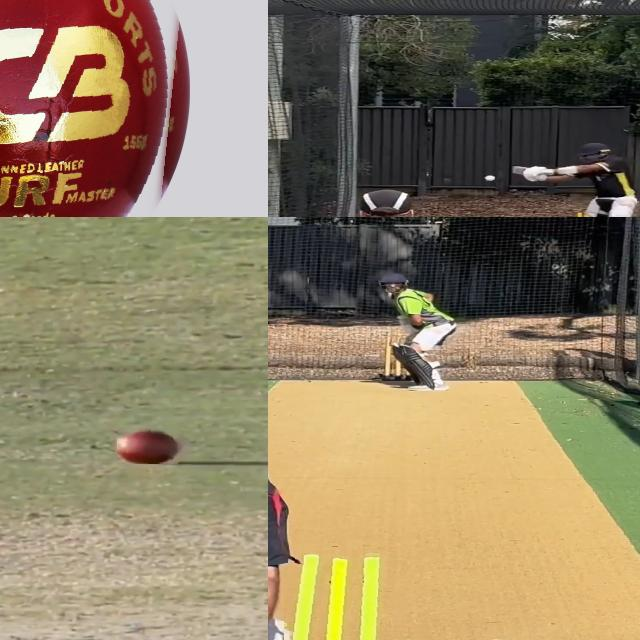Cricket ball: (0, 0, 193, 217), (117, 426, 182, 464), (484, 175, 498, 183)
Stumps: (283, 548, 408, 640)
